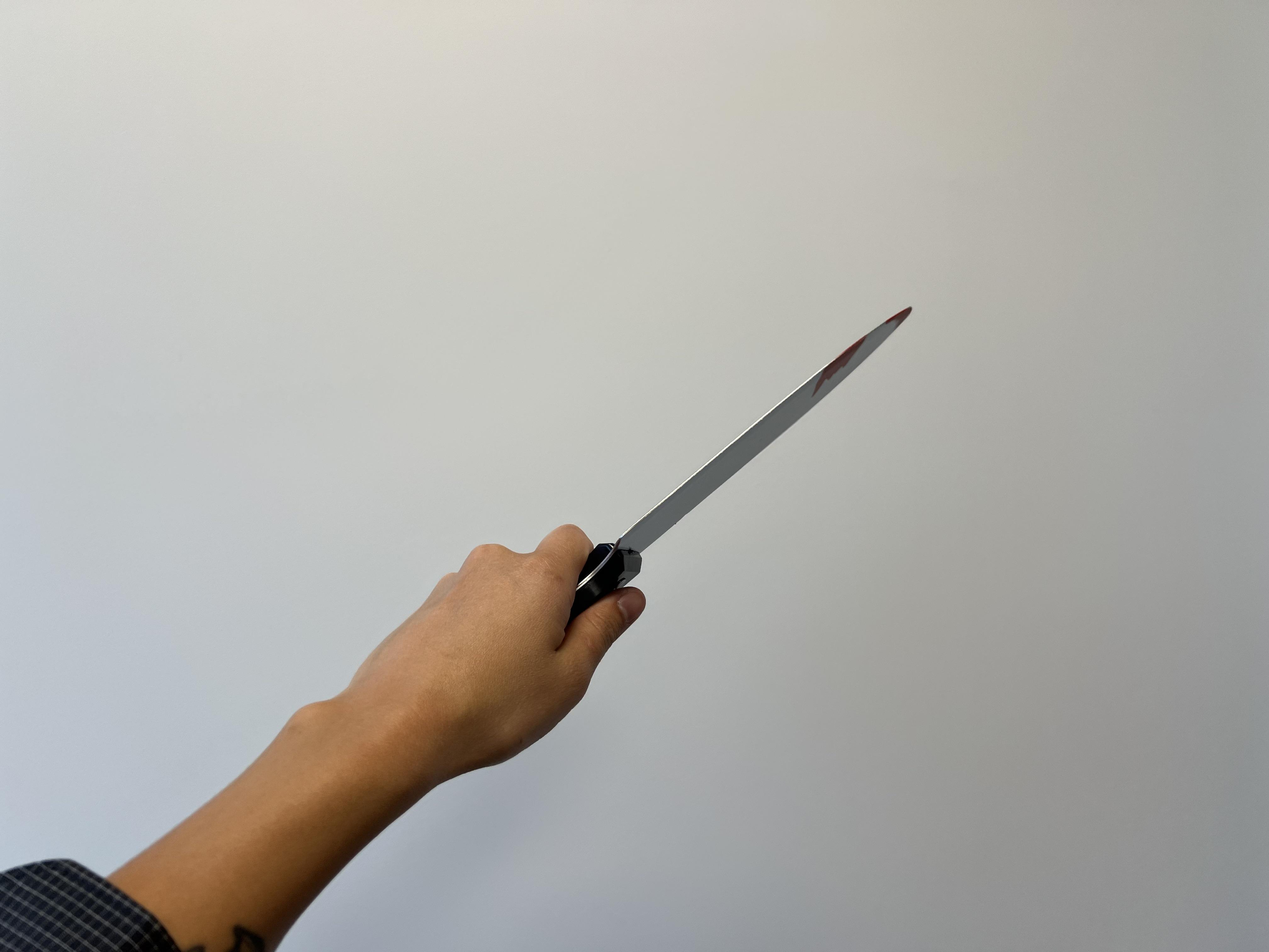Knife: (0, 527, 647, 952), (578, 301, 916, 601), (377, 526, 644, 760)
